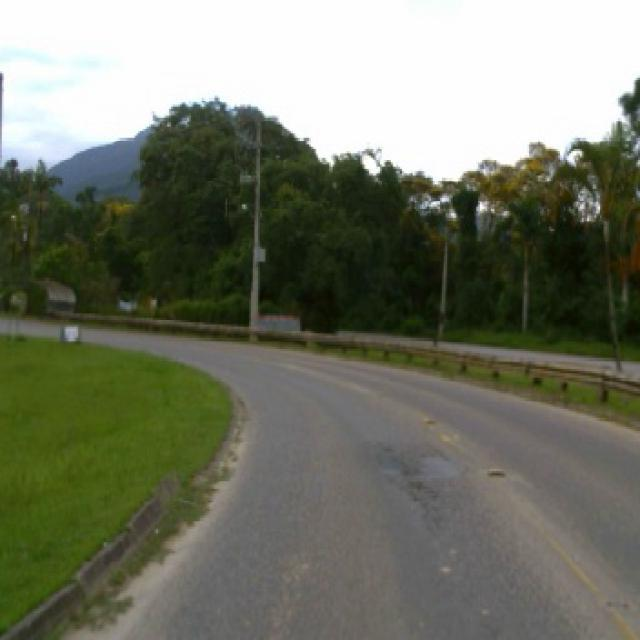Poth-hole: (377, 440, 468, 531), (487, 464, 509, 476), (424, 413, 441, 422)
